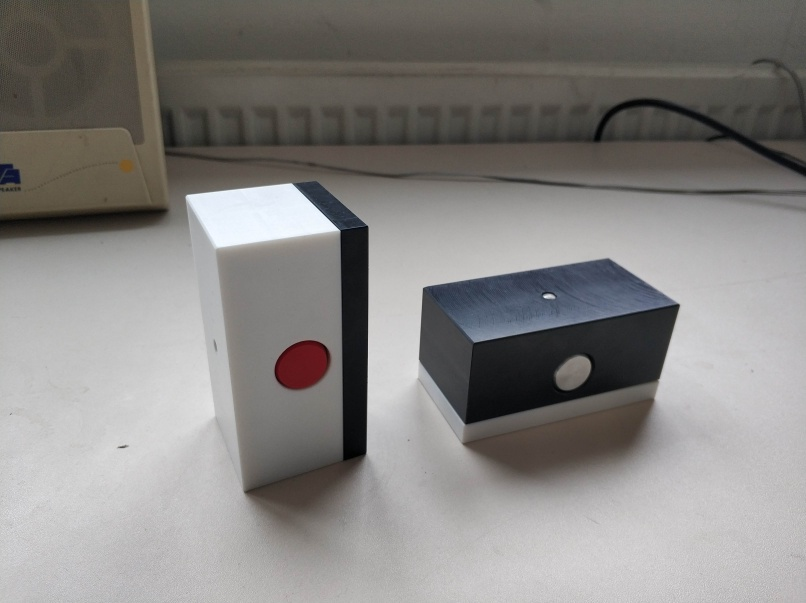black+white+red: (184, 180, 370, 498)
white+black+silver: (417, 257, 678, 447)
